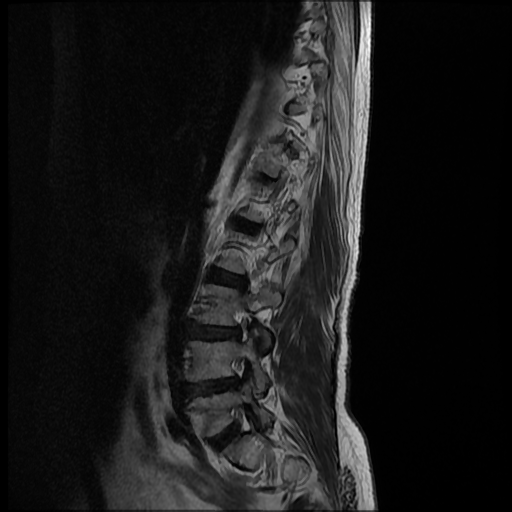RFS0: (221, 396, 261, 440)
